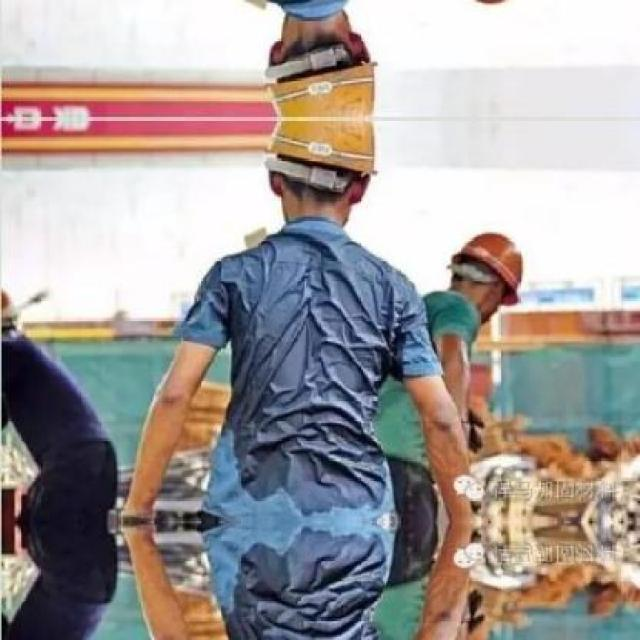helmet: (260, 117, 377, 231), (260, 3, 377, 117), (427, 227, 533, 315)
